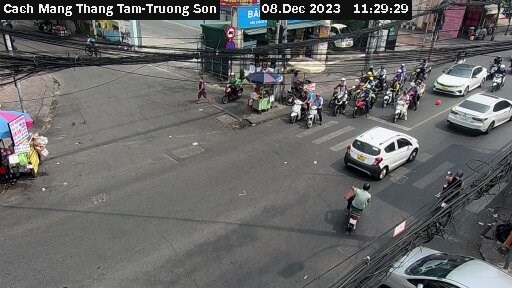car: (379, 231, 512, 288), (343, 123, 419, 180), (446, 92, 512, 138), (434, 59, 487, 98)
motorbike: (336, 181, 377, 232), (429, 169, 459, 213), (390, 95, 416, 120), (304, 102, 329, 127), (354, 91, 375, 119), (329, 93, 352, 117), (286, 96, 305, 122), (492, 67, 511, 93), (415, 62, 436, 81)
